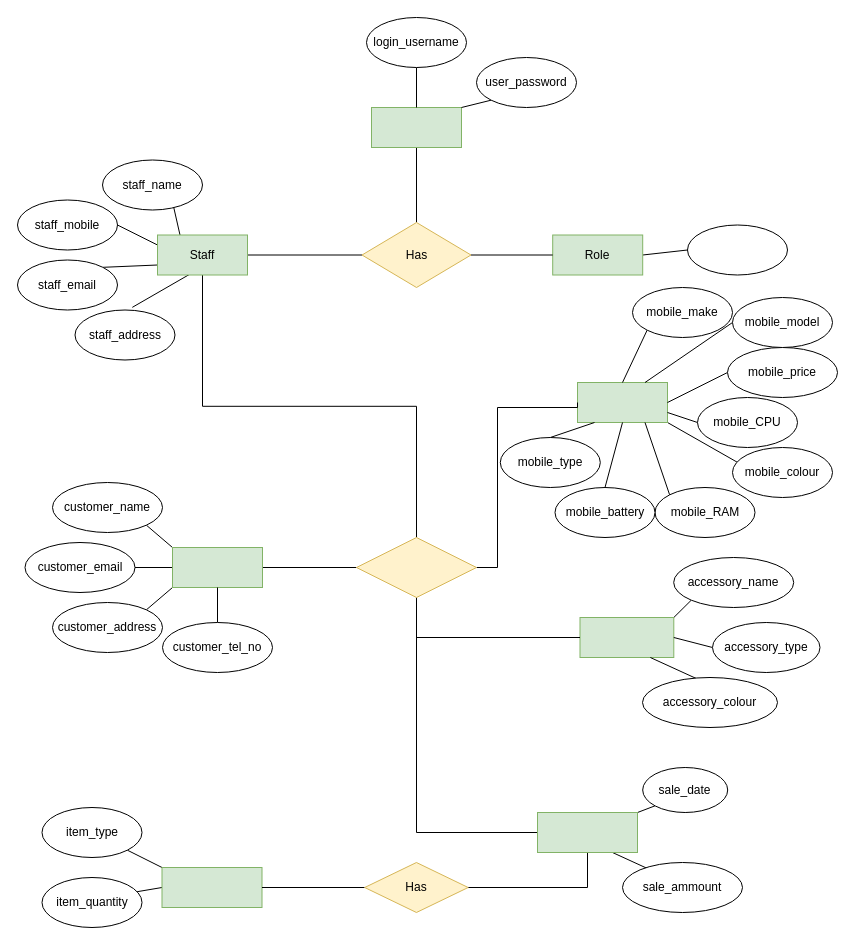
Some shapes in this 855 by 945 pixel diagram are drawn without their labels. Here are the shapes that lost their labels. From the top down, the centre of each, then its label:
At [416,127]: "Login".
At [737,249]: "role_name".
At [622,402]: "Mobile".
At [217,567]: "Customer".
At [416,567]: "Manage".
At [626,637]: "Accessory".
At [587,832]: "Sale".
At [211,887]: "Items".
